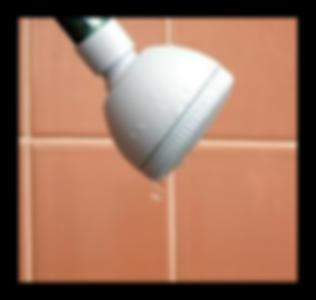Ducha: (19, 18, 297, 282)
